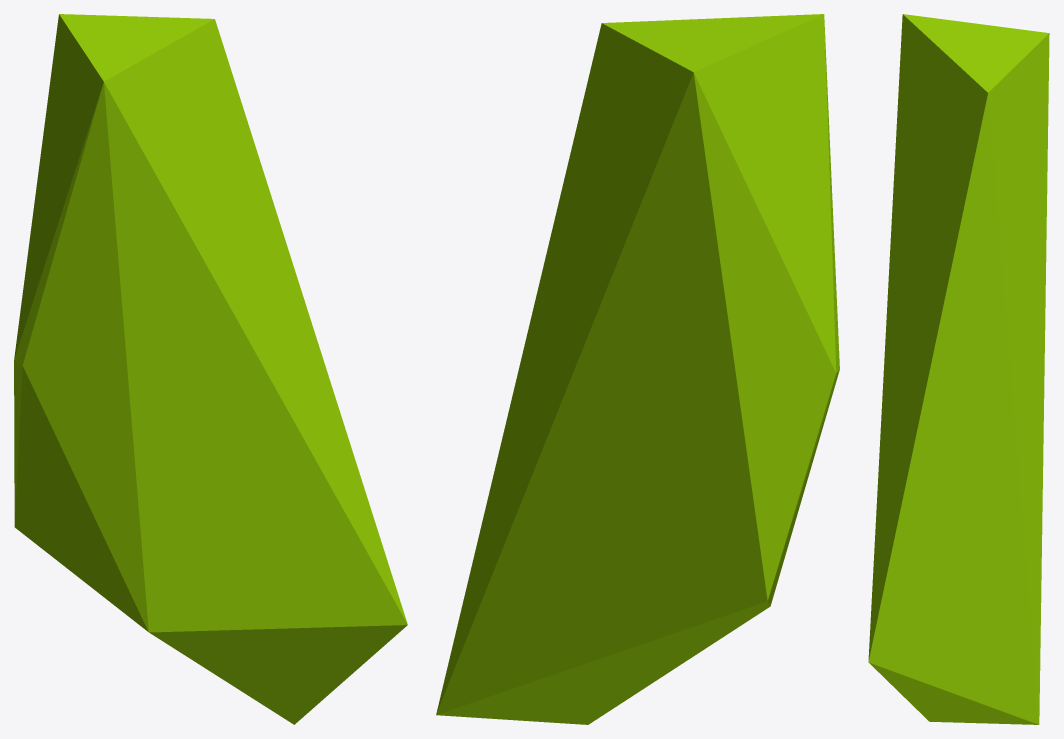
The model's file is torso_convex_piece_041.obj.
3 views of the same model, side by side, from view 1: azimuth 30°, elevation 25°; view 2: azimuth 150°, elevation 25°; view 3: azimuth 270°, elevation 25° (orthographic). The views are drawn at different scales.
Bounding box in the file's own units: 0.0499 × 0.0999 × 0.0265.
